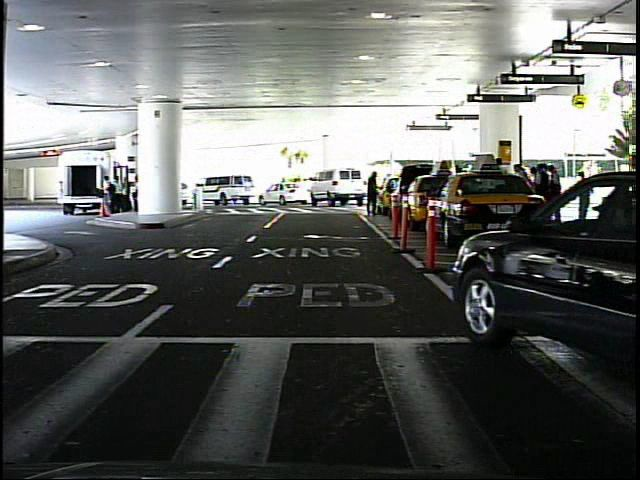person: (362, 164, 386, 220), (574, 166, 593, 224)
